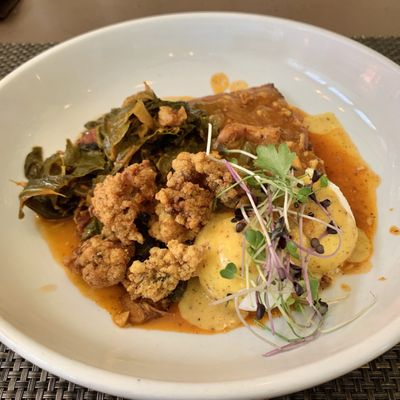sandwich: (10, 79, 383, 377)
